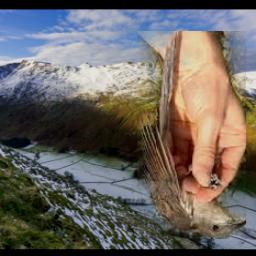Cuckoo: (138, 31, 247, 239)
